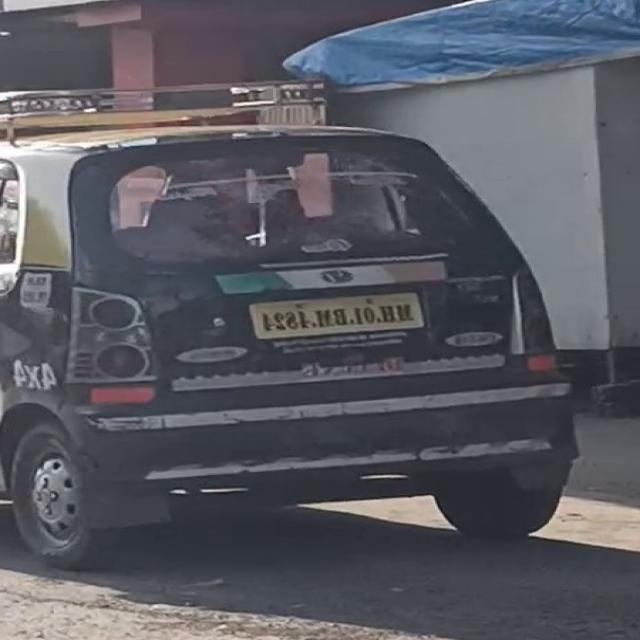license_plate: (238, 284, 430, 349)
